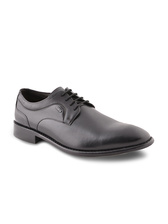shoes: (12, 85, 161, 159)
